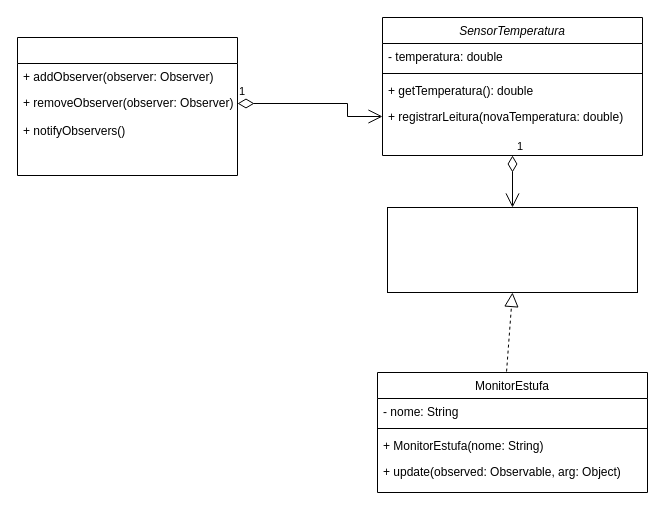
Image size: 665x510. Some labels were removed from this diagram. Here are the shapes that lost their labels. From the top down, the box of each, then its label:
(16, 36, 238, 176): Subject
(386, 206, 638, 292): <<Interface>> Observer + update(observed: Observable, arg: Object)
